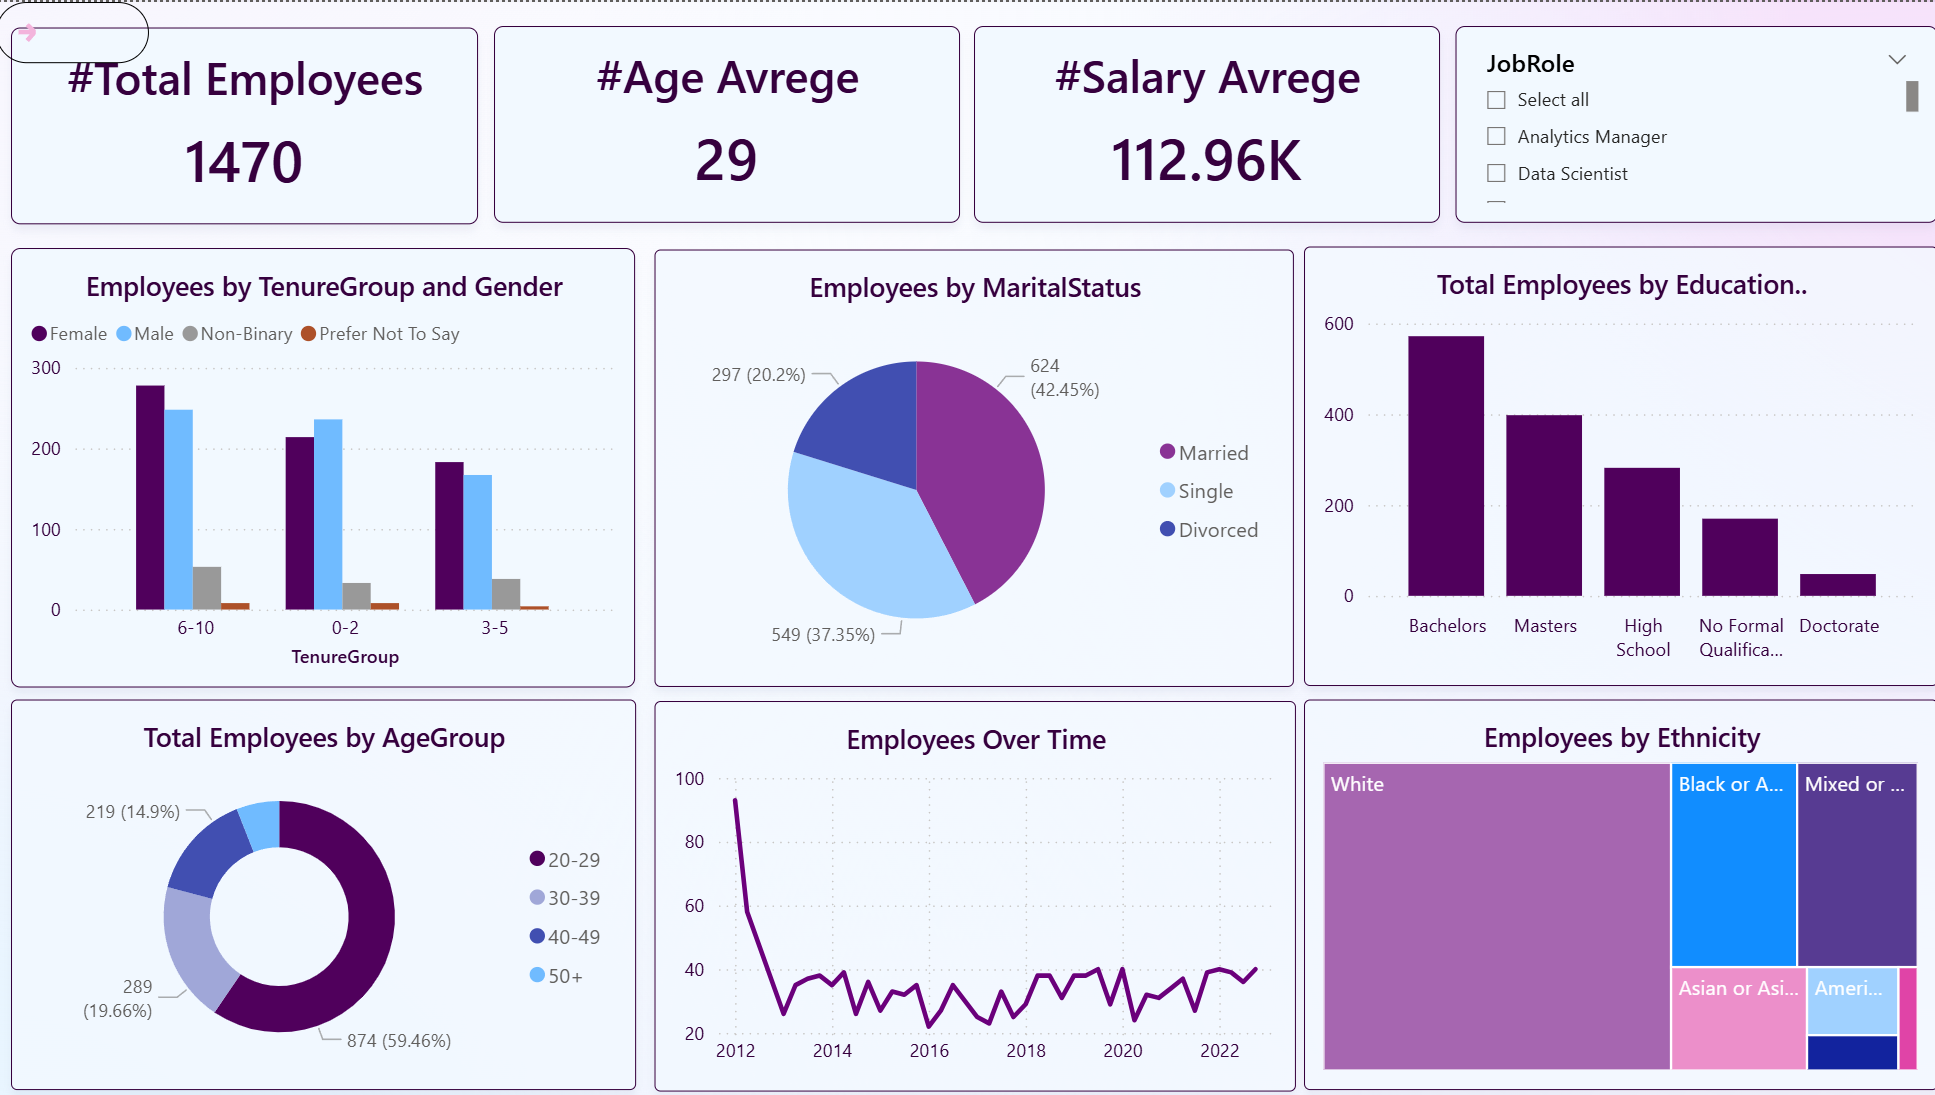

Layout of this report page (visuals, bound fields, positions):
{"tool":"powerbi","page":{"name":"Page 2","canvas":[1280,720],"ordinal":1},"visuals":[{"type":"clusteredColumnChart","title":" Employees by TenureGroup and Gender","fields":{"Category":["Employee.TenureGroup"],"Series":["Employee.Gender"],"Y":["Employee.Total Employees"]},"box":[10,160.5,408,287.4],"z":0},{"type":"donutChart","fields":{"Category":["Employee.AgeGroup"],"Y":["Employee.Total Employees"]},"box":[9.8,456.1,408.4,255.6],"z":1000},{"type":"lineChart","title":"Employees Over Time","fields":{"Category":["Employee.HireDate.Variation.Date Hierarchy.Year","Employee.HireDate.Variation.Date Hierarchy.Quarter","Employee.HireDate.Variation.Date Hierarchy.Month","Employee.HireDate.Variation.Date Hierarchy.Day"],"Y":["Employee.Total Employees"]},"box":[430.4,456.5,419.2,255],"z":2000},{"type":"clusteredColumnChart","fields":{"Category":["Employee.Education.."],"Y":["Employee.Total Employees"]},"box":[854.8,160.2,414.5,287.4],"z":3000},{"type":"card","title":"#Total Employees","fields":{"Values":["Employee.Total Employees"]},"box":[9.8,17.1,305,128.4],"z":4000},{"type":"actionButton","box":[0,0,100,40],"z":5000},{"type":"card","title":"#Age Avrege","fields":{"Values":["Employee.Age Avrege"]},"box":[325.3,15.9,304.5,128.4],"z":6000},{"type":"card","title":"#Salary Avrege","fields":{"Values":["Employee.Salary Avrege"]},"box":[639.5,15.9,304.5,128.4],"z":7000},{"type":"treemap","title":"Employees by Ethnicity","fields":{"Group":["Employee.Ethnicity"],"Values":["Employee.Total Employees"]},"box":[854.8,456.1,414.5,255.6],"z":8000},{"type":"slicer","fields":{"Values":["Employee.JobRole"]},"box":[953.8,15.9,315.5,128.4],"z":9000},{"type":"pieChart","title":"Employees by MaritalStatus","fields":{"Y":["Employee.Total Employees"],"Category":["Employee.MaritalStatus"]},"box":[430.4,161.7,418,286.1],"z":10000}]}

Visuals, with their boxes in screenshot pixels (x1, y1, x2, y2), scaled from the page's 1280x720 canvas onto the 1935x1095 screenshot:
" Employees by TenureGroup and Gender" clusteredColumnChart: <bbox>15, 244, 632, 681</bbox>
donutChart - Employee.AgeGroup x Employee.Total Employees: <bbox>15, 694, 632, 1082</bbox>
"Employees Over Time" lineChart: <bbox>651, 694, 1284, 1082</bbox>
clusteredColumnChart - Employee.Education.. x Employee.Total Employees: <bbox>1292, 244, 1919, 681</bbox>
"#Total Employees" card: <bbox>15, 26, 476, 221</bbox>
actionButton: <bbox>0, 0, 151, 61</bbox>
"#Age Avrege" card: <bbox>492, 24, 952, 219</bbox>
"#Salary Avrege" card: <bbox>967, 24, 1427, 219</bbox>
"Employees by Ethnicity" treemap: <bbox>1292, 694, 1919, 1082</bbox>
slicer - Employee.JobRole: <bbox>1442, 24, 1919, 219</bbox>
"Employees by MaritalStatus" pieChart: <bbox>651, 246, 1283, 681</bbox>
